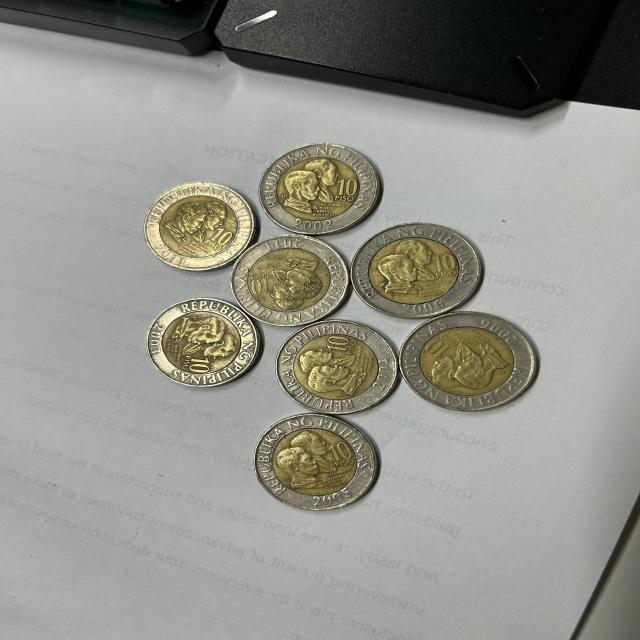10_Old_Front: (324, 439, 354, 460), (326, 334, 354, 354), (426, 338, 452, 358), (334, 178, 361, 197), (433, 253, 461, 271), (210, 228, 233, 244), (250, 280, 273, 296), (188, 357, 212, 372)
